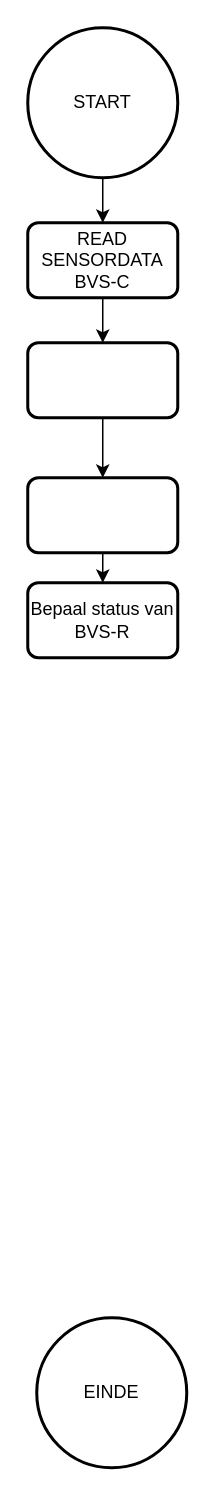
This 213x1494 diagram has some shape labels left out. The centre of each missing label's shape, as x and y in pixels:
"Bepaal status van BVS-C" goes at point (102, 515).
"READ SENSORDATA BVS-R" goes at point (102, 379).
